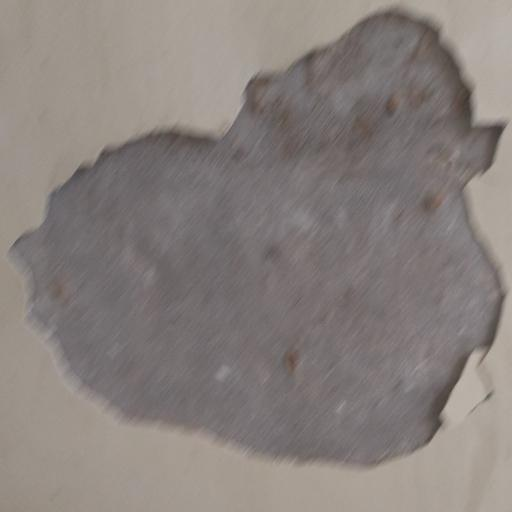peeling: (6, 6, 512, 475)
